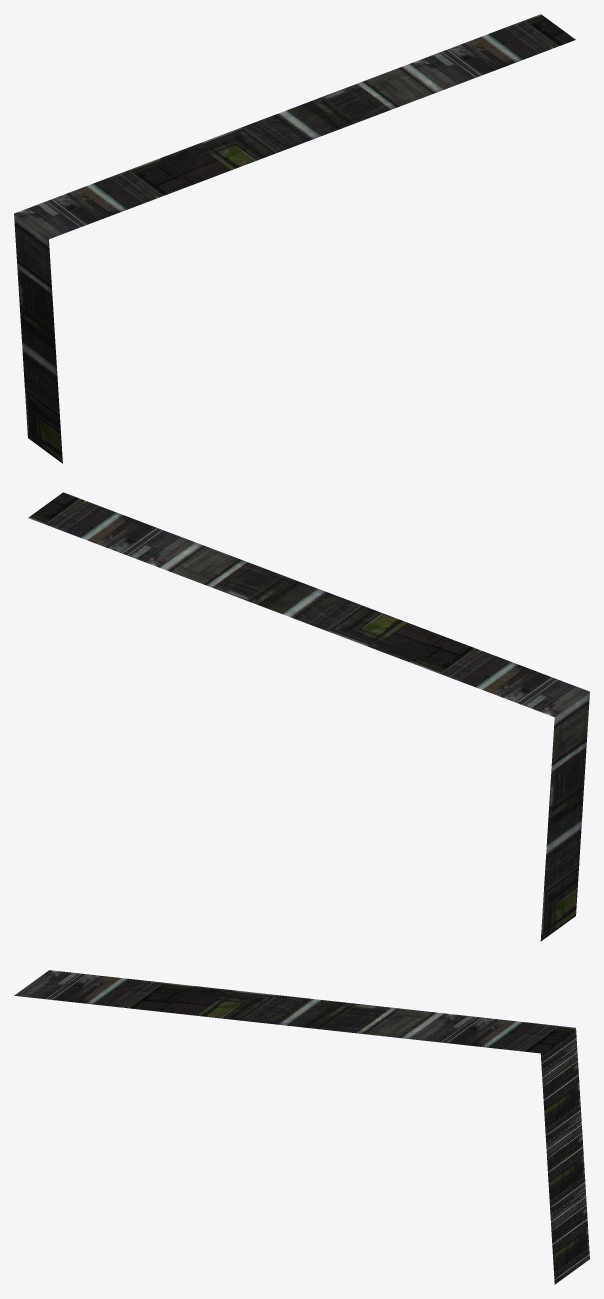
File: tile_facade_808.glb
3 renders of one model, top to bottom at view 1: azimuth 30°, elevation 25°; view 2: azimuth 150°, elevation 25°; view 3: azimuth 330°, elevation 25°, orthographic.
Bounding box in the file's own units: 35.56 × 18.76 × 4.
1 material, 1 textured.
